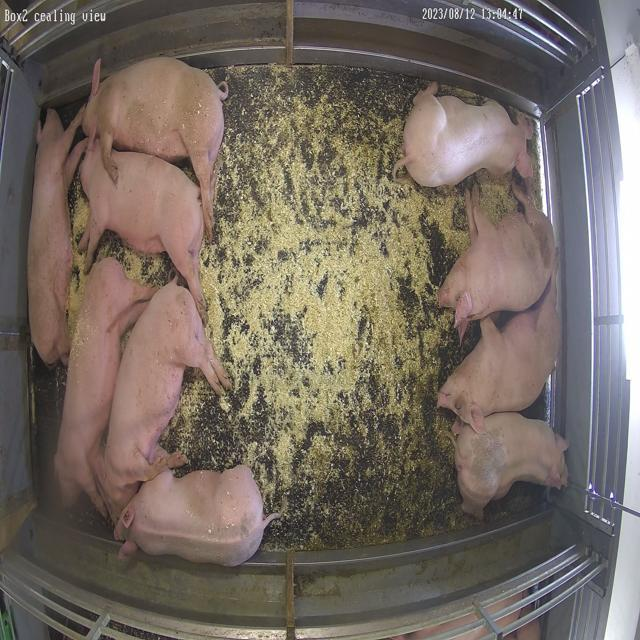Dirt: (329, 401, 469, 548)
Pig: (103, 280, 231, 518), (82, 57, 228, 238), (54, 258, 155, 516), (79, 142, 205, 314), (440, 279, 562, 432), (439, 186, 556, 338), (115, 466, 280, 568), (27, 109, 84, 364), (400, 82, 534, 186), (454, 413, 569, 520)
